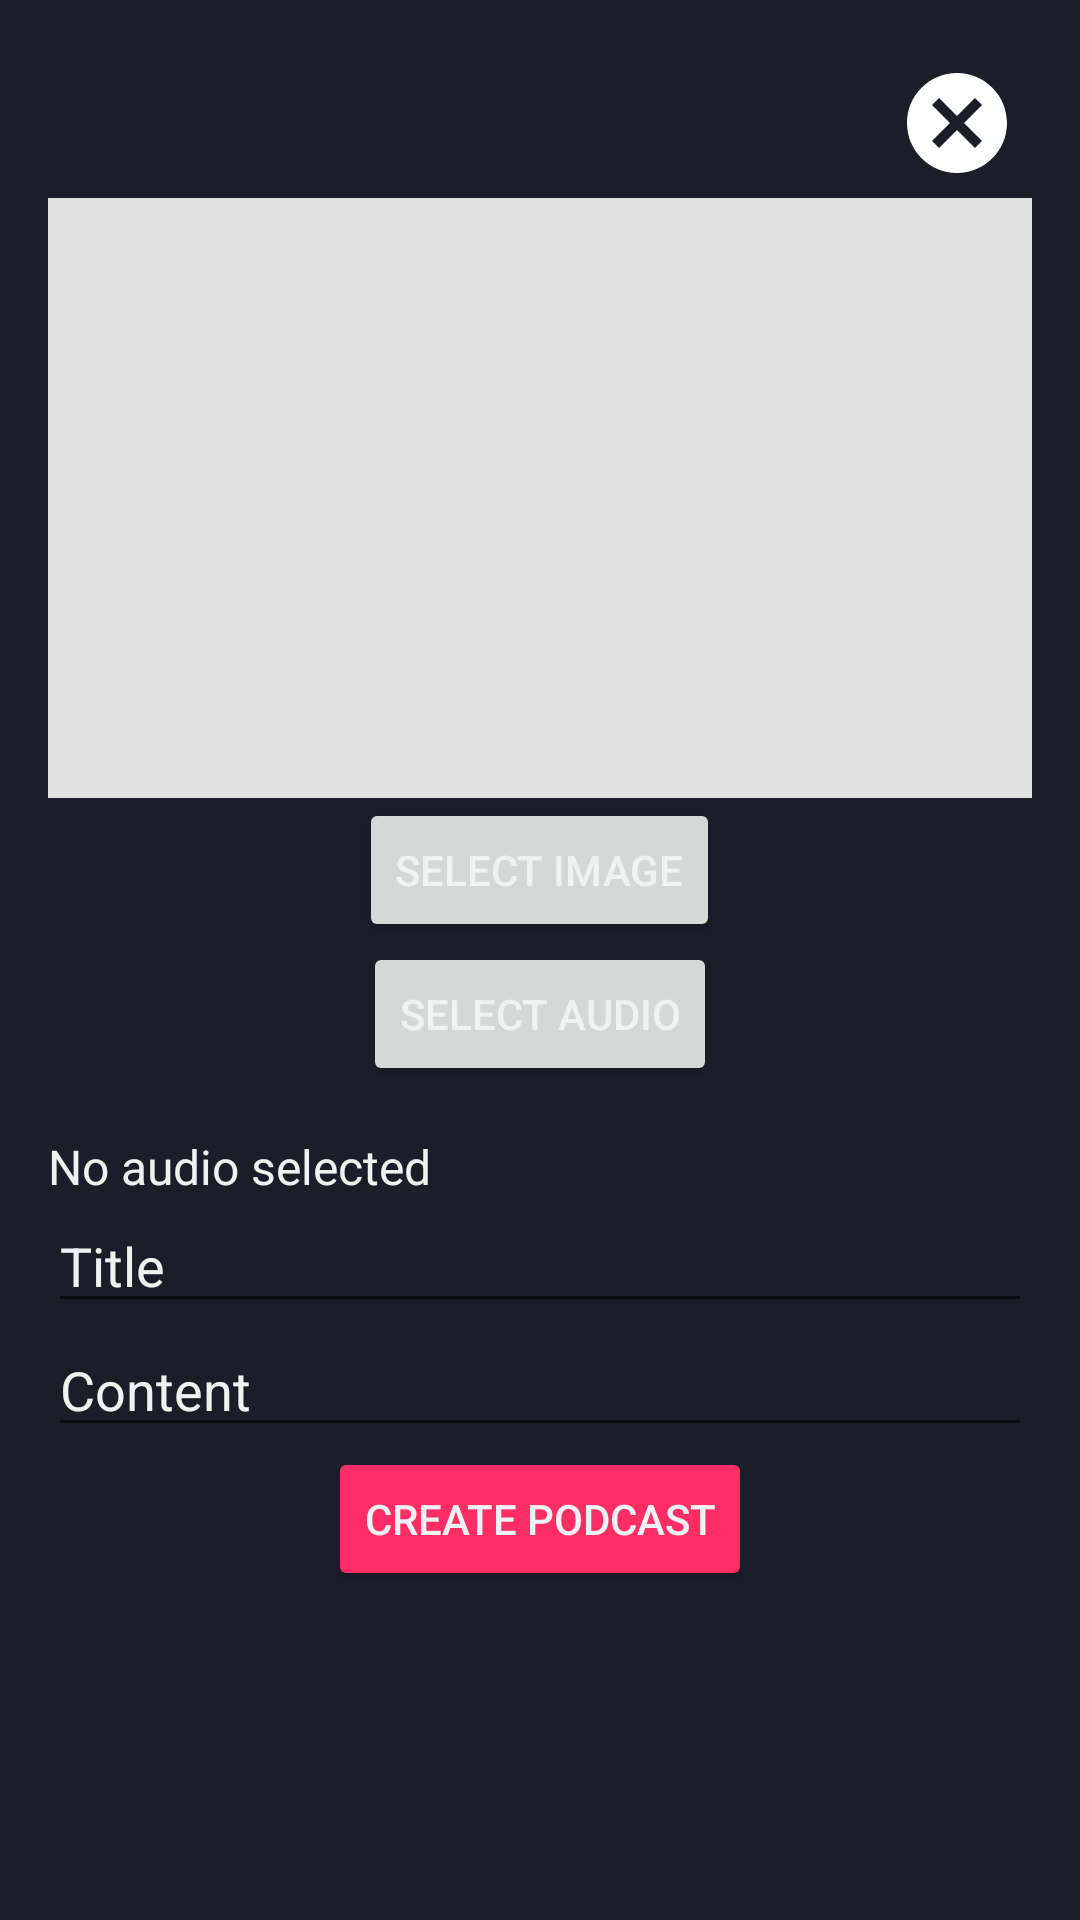

Where to tap for icons on this 1080px×1920px app screen, as (x=x, y=y):
close: (x=957, y=123)
